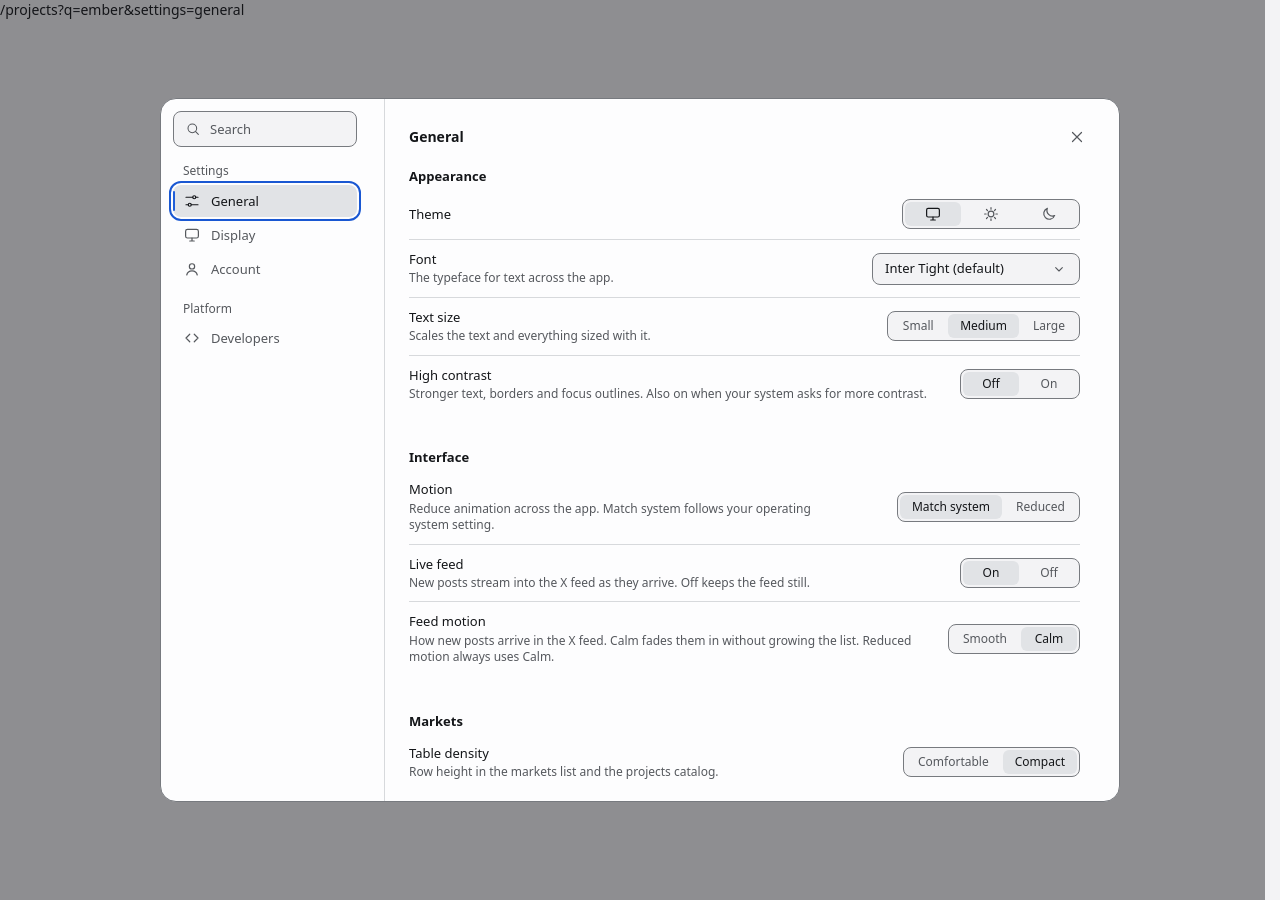
Test: url-driven dialog › switching sections replaces the param and keeps other params
This screenshot has width=1280, height=900.
Click the link "Developers".
click(231, 338)  # box [183, 329, 280, 347]
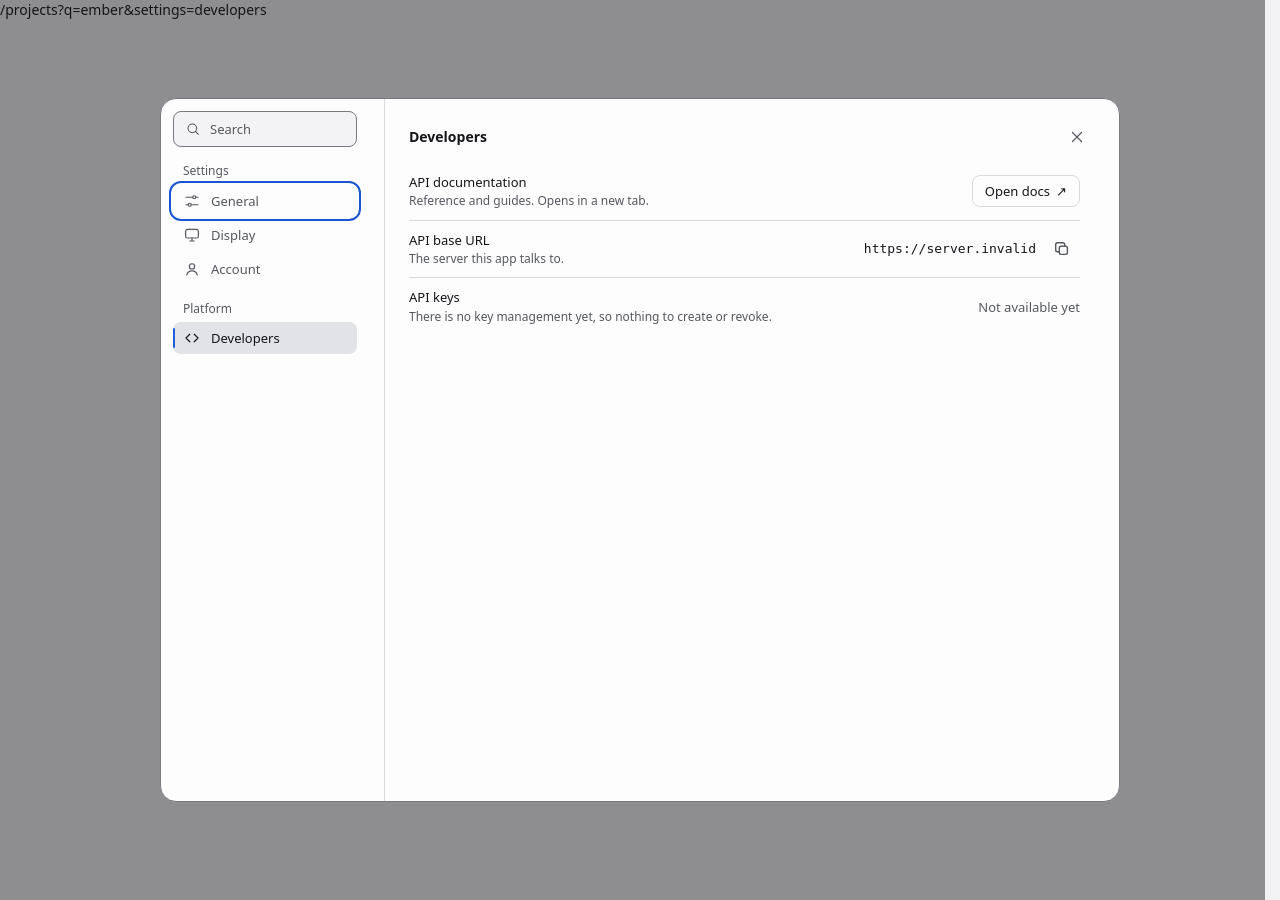
Expected: the dialog "Developers" is shown, [160, 98, 1120, 802]
Now the text with test id "where" reads "/projects?q=ember&settings=developers", box [0, 0, 267, 19]
